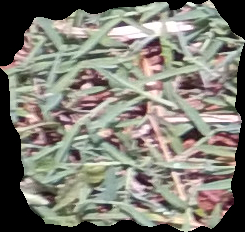grass: (1, 1, 243, 231)
